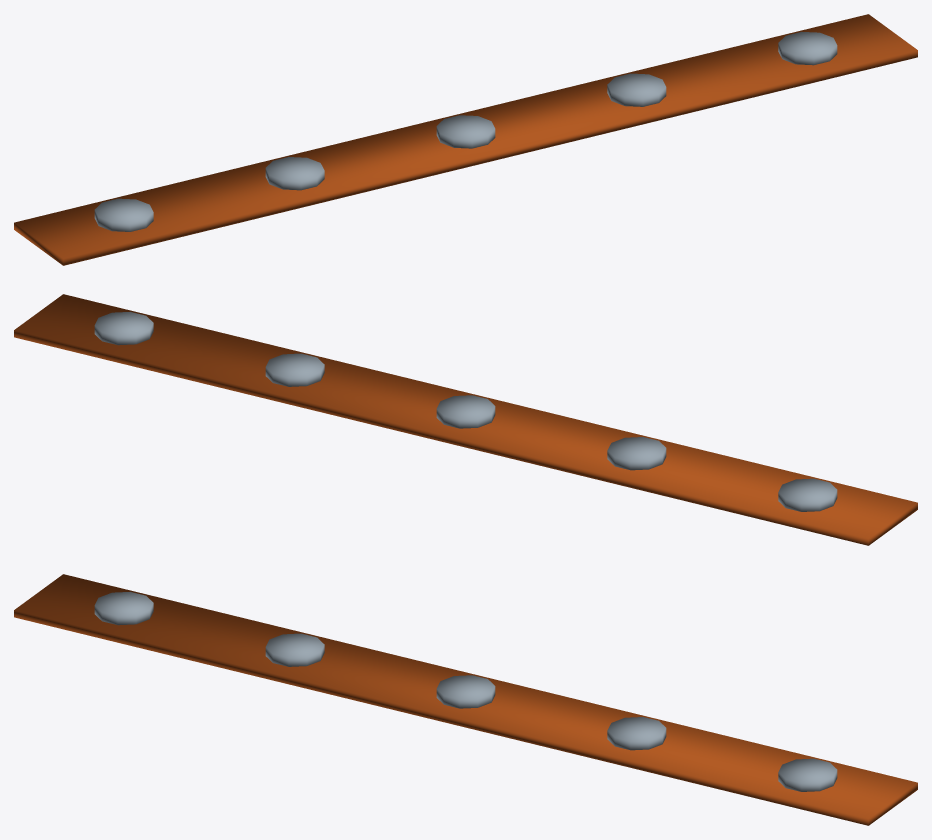
File: 084_L100_Solder_Bridge_Repair.fbx
The picture shows the model from 3 angles, top to bottom: view 1: azimuth 30°, elevation 25°; view 2: azimuth 150°, elevation 25°; view 3: azimuth 330°, elevation 25°; orthographic projection.
Visible parts, largest first — view 1: Part_000, Part_003, Part_004, Part_001, Part_002, Part_005; view 2: Part_000, Part_003, Part_004, Part_001, Part_002, Part_005; view 3: Part_000, Part_003, Part_002, Part_005, Part_004, Part_001.
Boxes of the visible parts, bbox=[...] form: Part_000: bbox=[14, 14, 917, 265]; Part_003: bbox=[436, 115, 495, 148]; Part_004: bbox=[607, 73, 666, 106]; Part_001: bbox=[94, 198, 153, 231]; Part_002: bbox=[265, 157, 324, 190]; Part_005: bbox=[778, 32, 837, 65]; Part_000: bbox=[14, 294, 917, 545]; Part_003: bbox=[436, 395, 495, 428]; Part_004: bbox=[265, 353, 324, 386]; Part_001: bbox=[778, 478, 837, 511]; Part_002: bbox=[607, 437, 666, 470]; Part_005: bbox=[94, 312, 153, 345]; Part_000: bbox=[14, 574, 917, 825]; Part_003: bbox=[436, 675, 495, 708]; Part_002: bbox=[265, 633, 324, 666]; Part_005: bbox=[778, 758, 837, 791]; Part_004: bbox=[607, 717, 666, 750]; Part_001: bbox=[94, 592, 153, 625].
Bounding box in the file's own units: 0.01 × 0.001 × 0.00018.
